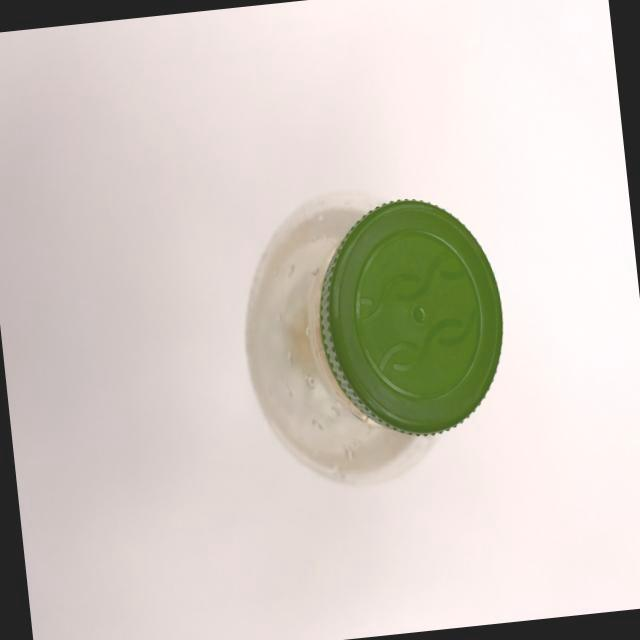plastic: (254, 138, 534, 478)
